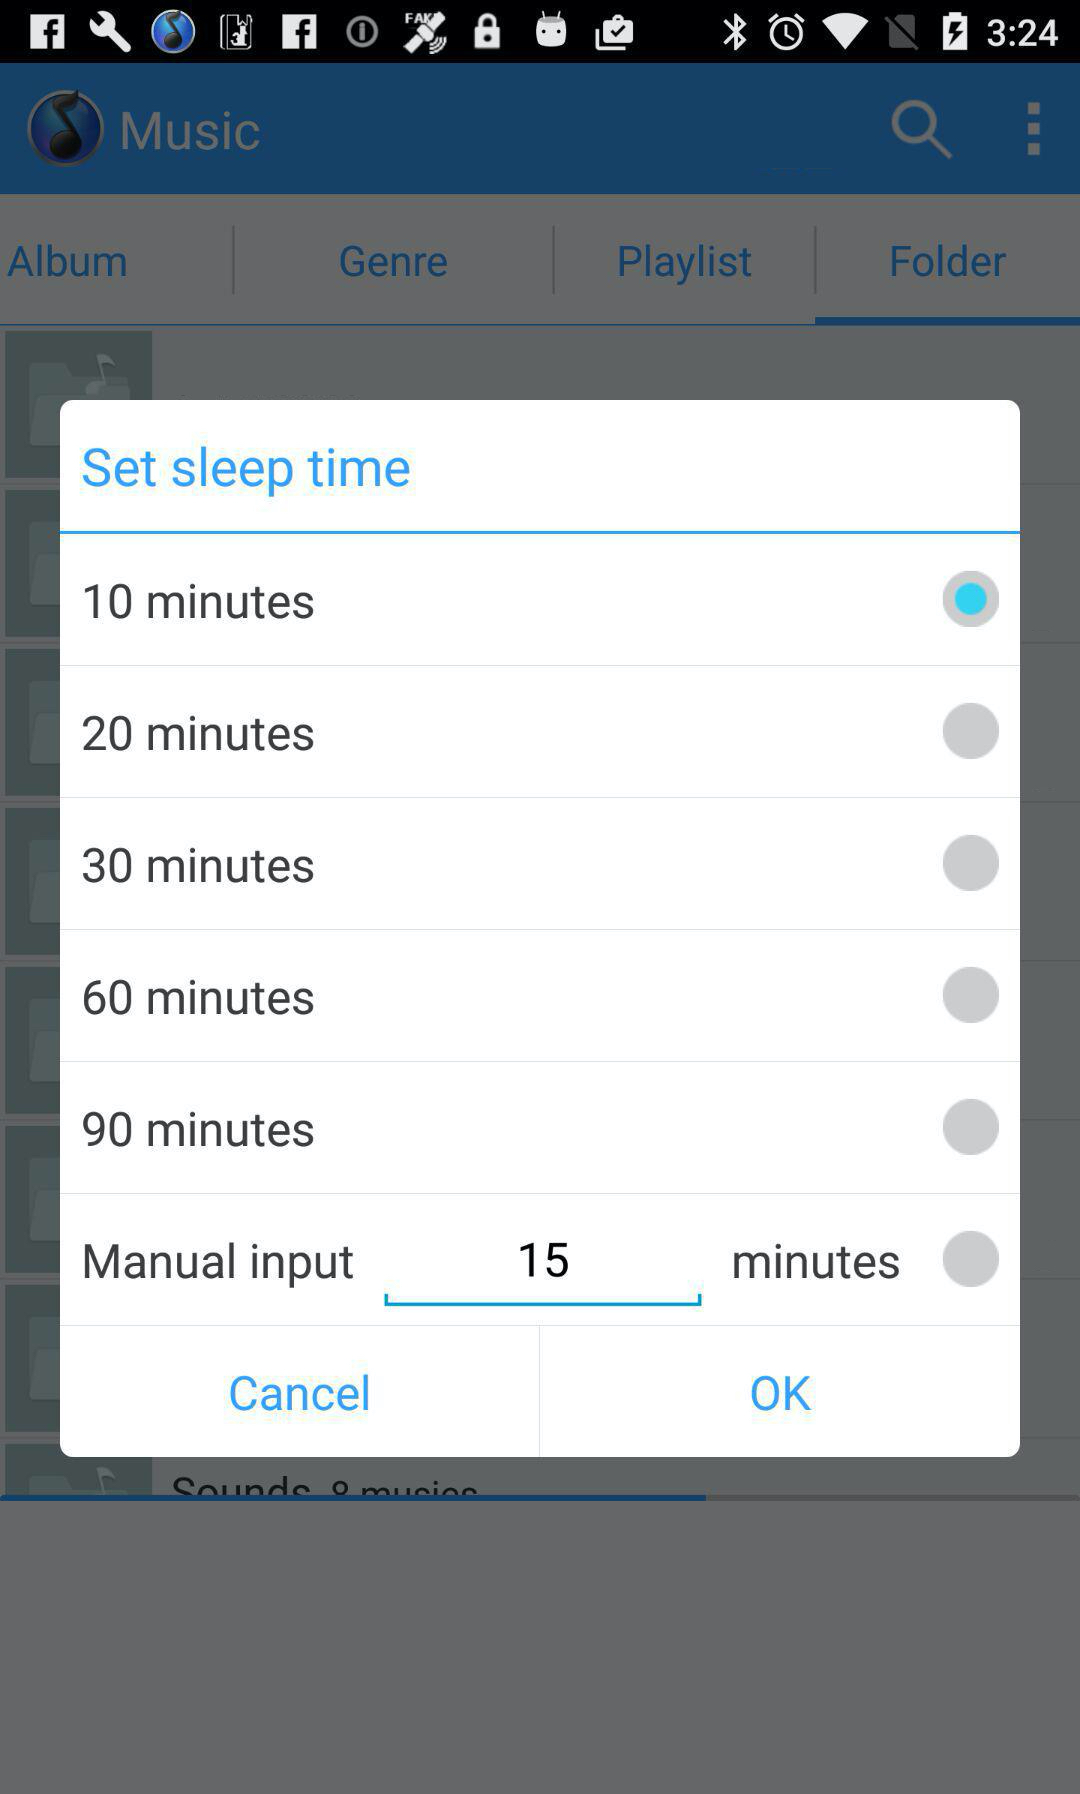CheckedTextView: (85, 1231, 1001, 1288), (85, 572, 999, 628), (85, 834, 999, 891), (83, 704, 999, 759), (85, 967, 1001, 1023), (85, 1099, 1001, 1155)
Icon: (890, 99, 954, 161), (1026, 103, 1042, 159)
Image: (26, 88, 106, 169)
Modal: (61, 400, 1020, 1457)
Text: (85, 446, 410, 497), (85, 1243, 354, 1288), (85, 583, 315, 620), (85, 847, 315, 883), (85, 1112, 315, 1148), (83, 716, 315, 751), (85, 980, 314, 1015), (120, 111, 261, 152), (620, 243, 752, 287), (8, 245, 128, 279), (890, 245, 1007, 278), (341, 245, 448, 278)
TextButton: (61, 1326, 541, 1458), (541, 1326, 1020, 1457)
UpperTaskBar: (1, 1, 1080, 64)
